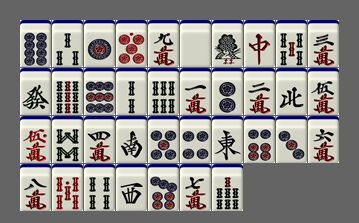0m: (20, 116, 51, 163)
0p: (116, 20, 147, 67)
0s: (52, 164, 83, 211)
1m: (180, 68, 211, 115)
1p: (84, 20, 115, 67)
1s: (212, 20, 243, 67)
1z: (212, 116, 243, 163)
2m: (244, 68, 275, 115)
2p: (212, 68, 243, 115)
2s: (116, 68, 147, 115)
2z: (116, 116, 147, 163)
3m: (308, 20, 339, 67)
3p: (276, 116, 307, 163)
3s: (52, 20, 83, 67)
3z: (116, 164, 147, 211)
4m: (84, 116, 115, 163)
4p: (180, 116, 211, 163)
4s: (84, 164, 115, 211)
4z: (276, 68, 307, 115)
5m: (308, 68, 339, 115)
5p: (148, 116, 179, 163)
5s: (276, 20, 307, 67)
5z: (180, 20, 211, 67)
6m: (308, 116, 339, 163)
6p: (244, 116, 275, 163)
6s: (148, 68, 179, 115)
6z: (20, 68, 51, 115)
7m: (180, 164, 211, 211)
7p: (148, 164, 179, 211)
7s: (212, 164, 243, 211)
7z: (244, 20, 275, 67)
8m: (20, 164, 51, 211)
8p: (20, 20, 51, 67)
8s: (52, 116, 83, 163)
9m: (148, 20, 179, 67)
9p: (84, 68, 115, 115)
9s: (52, 68, 83, 115)
